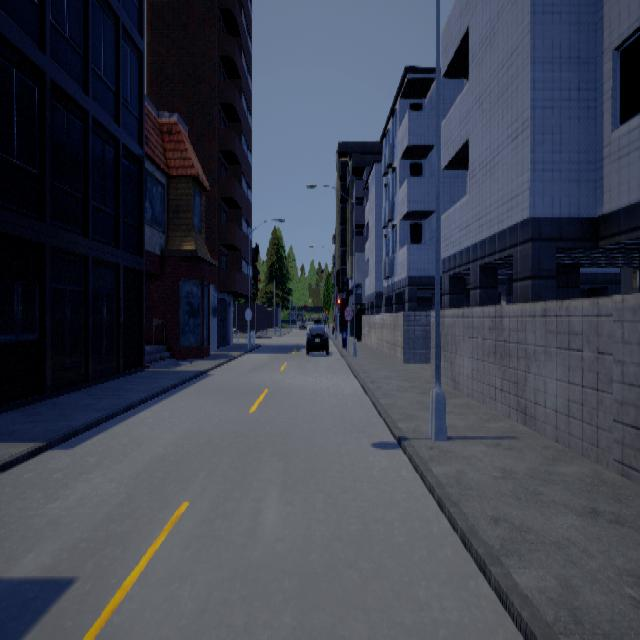traffic_sign: (343, 305, 352, 320)
vehicle: (305, 318, 328, 354)
